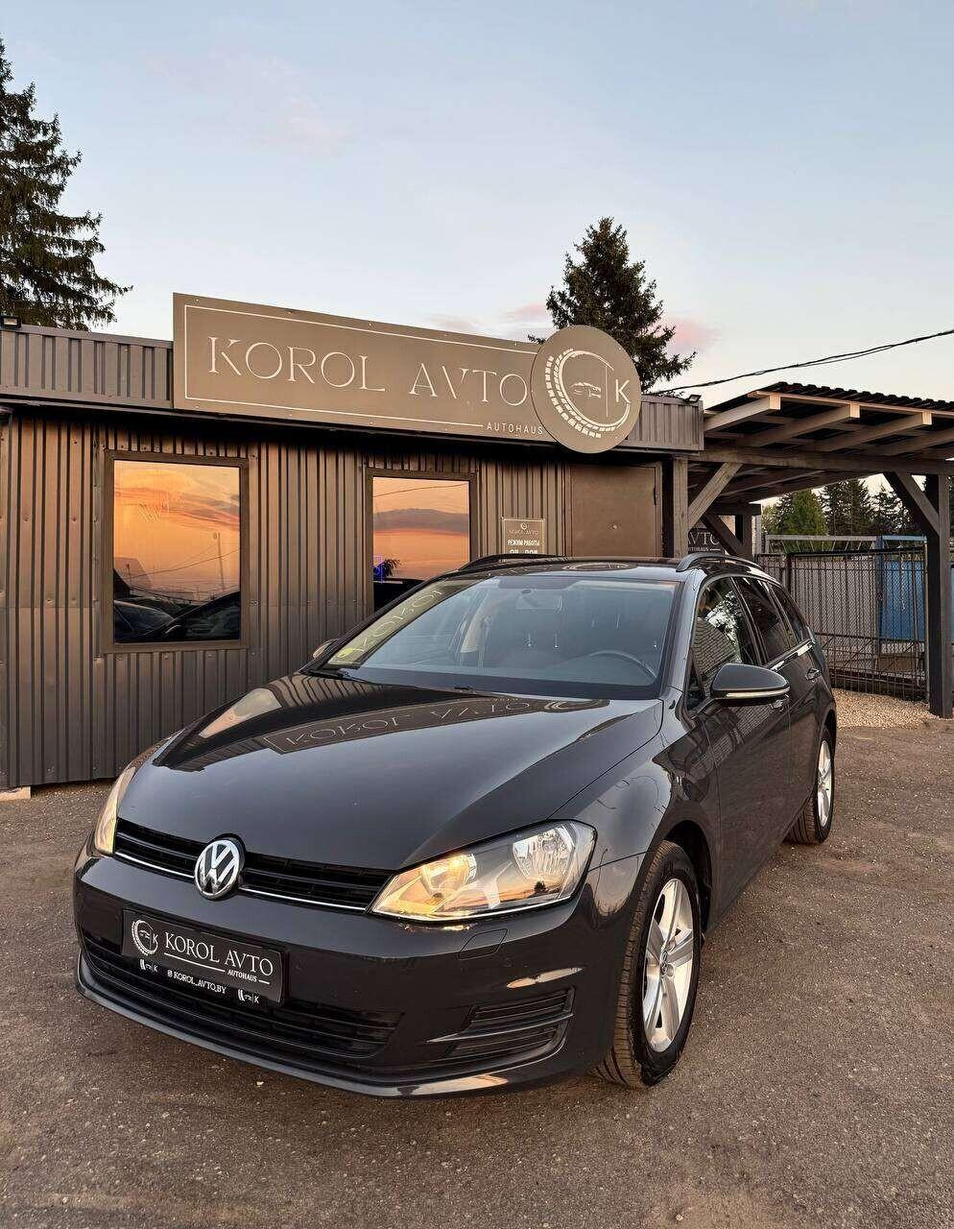Golf_2012-2017: (67, 560, 850, 1114)
